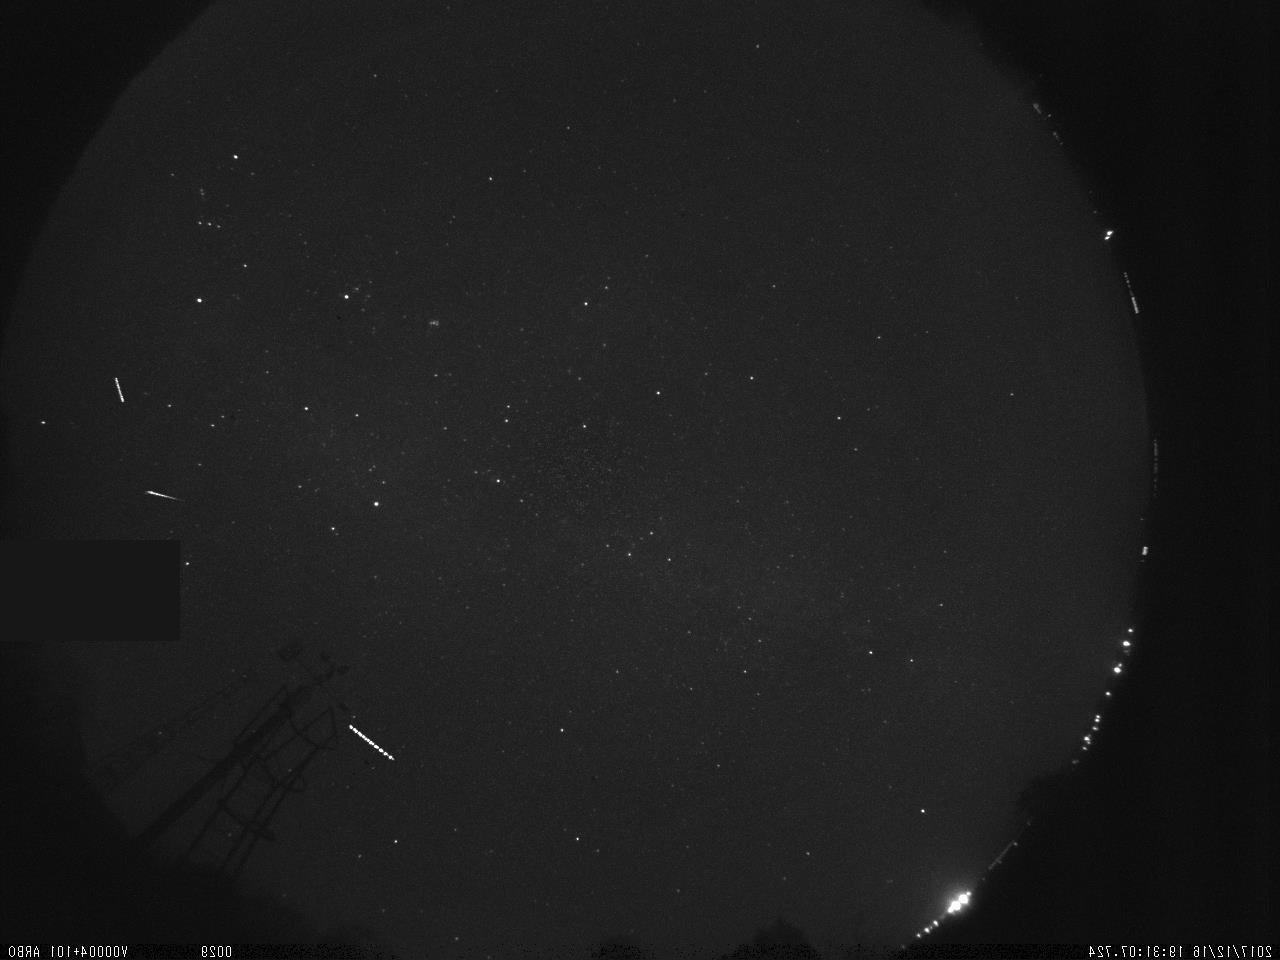meteor: (132, 478, 190, 507)
